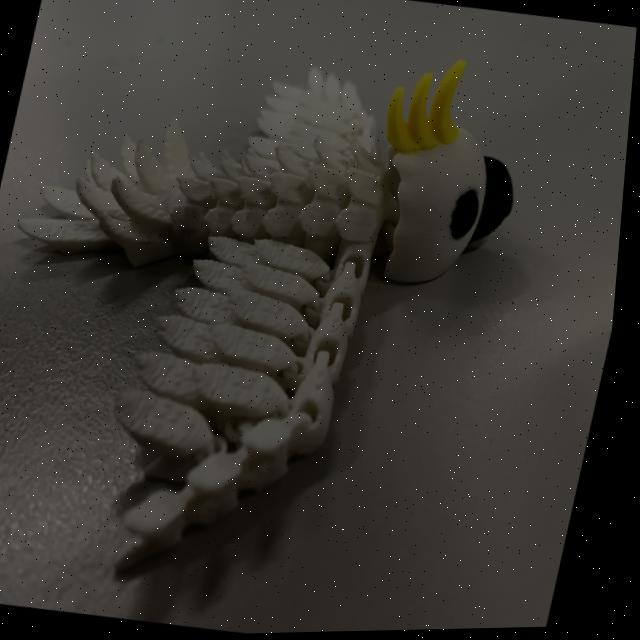cockatoo: (0, 15, 530, 613)
